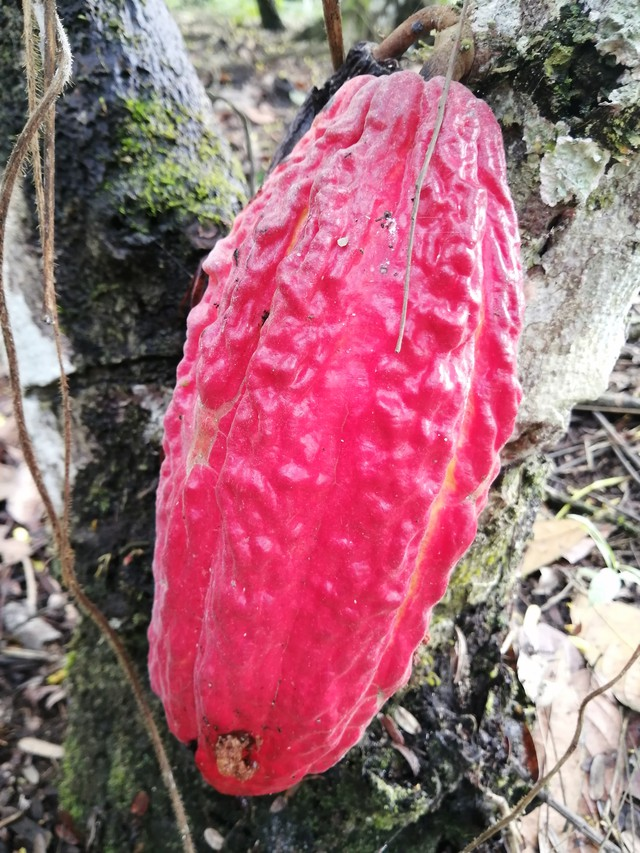carmenta foraseminis: (144, 68, 527, 811)
